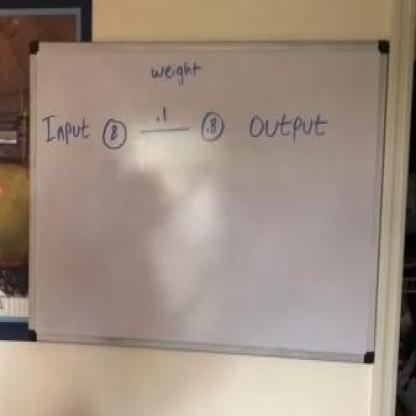Handwritten text: (247, 97, 332, 158), (146, 51, 206, 89), (40, 106, 90, 149)
Whiteboard: (31, 45, 381, 357)
